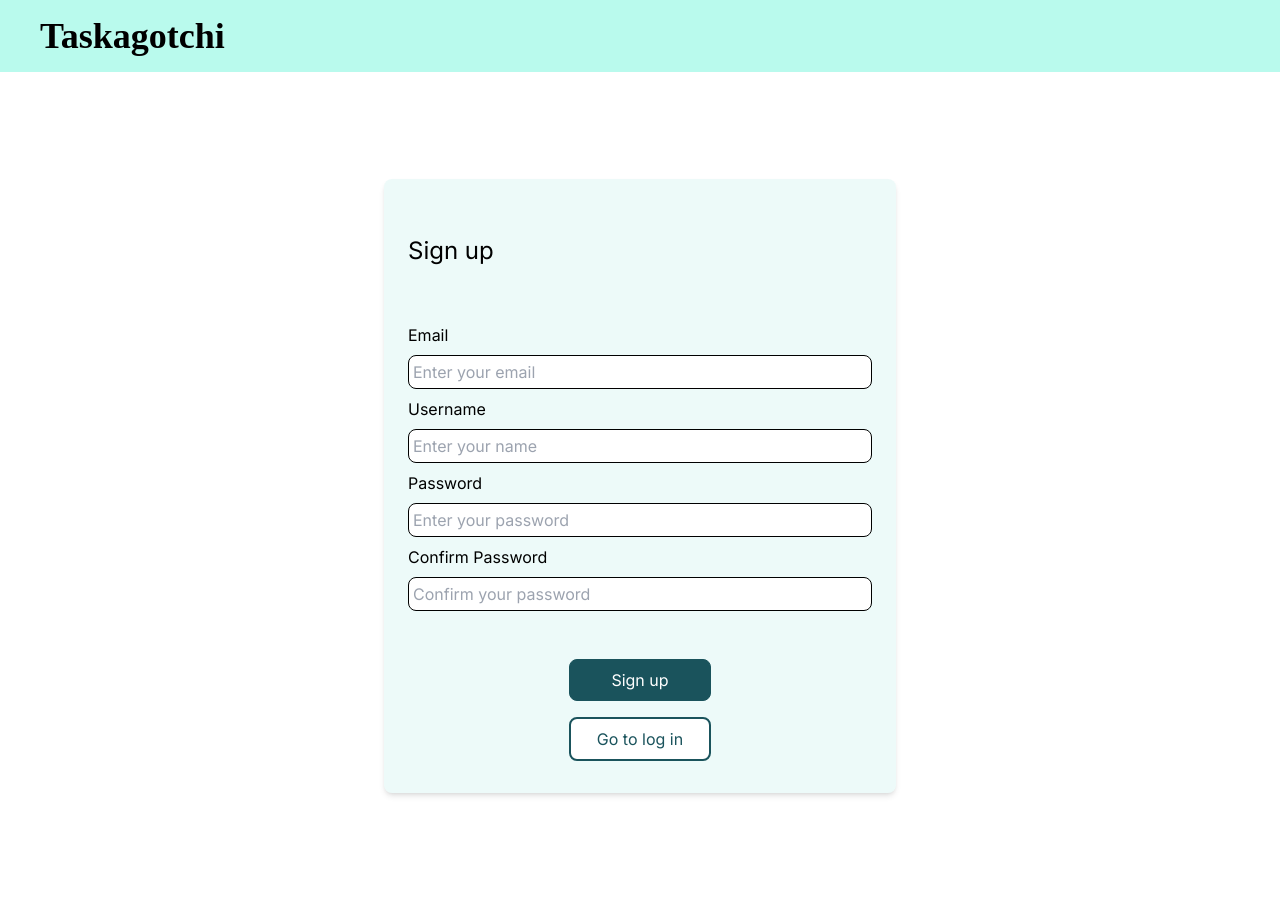
Test: Signup Component › password of length more than 25 submitted
Type "abcdefghijklmnopqrstuvwxyz" into the password field with placeholder "Enter your password" at (640, 520), box [408, 503, 872, 537]
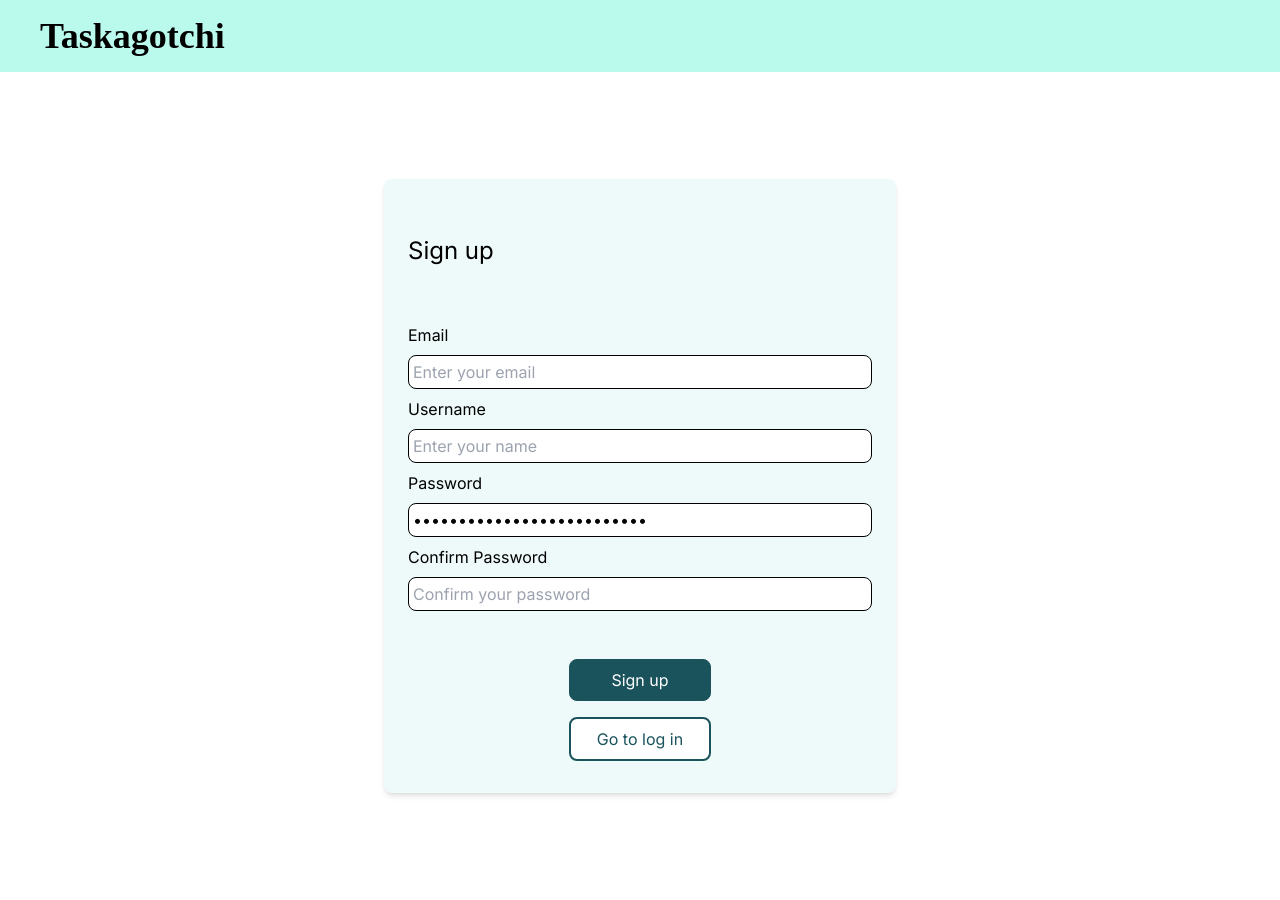
Submit the form from the button "Sign up", box [569, 659, 711, 701]
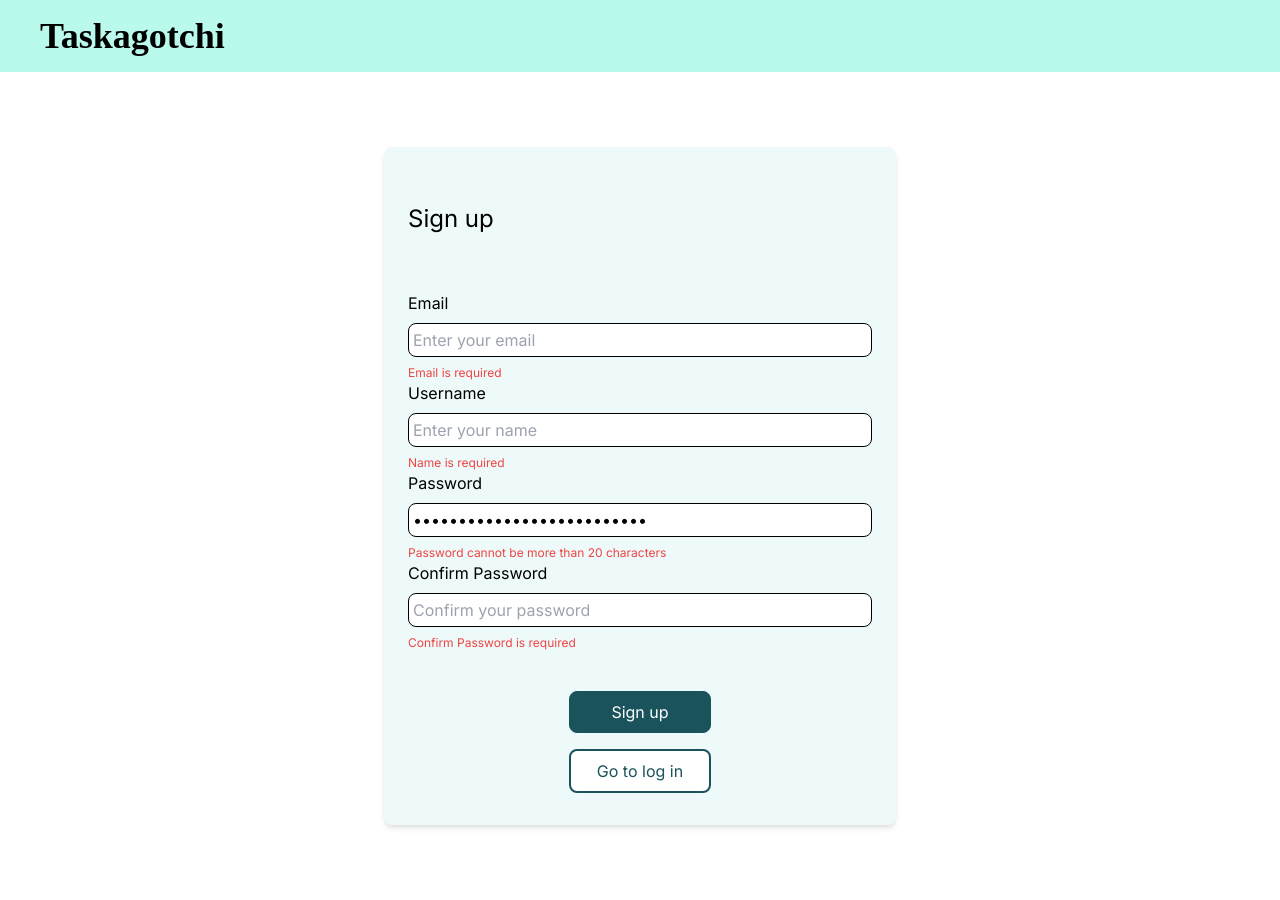
Expected: the text "Password cannot be more than 20 characters" is shown, [408, 545, 666, 560]
